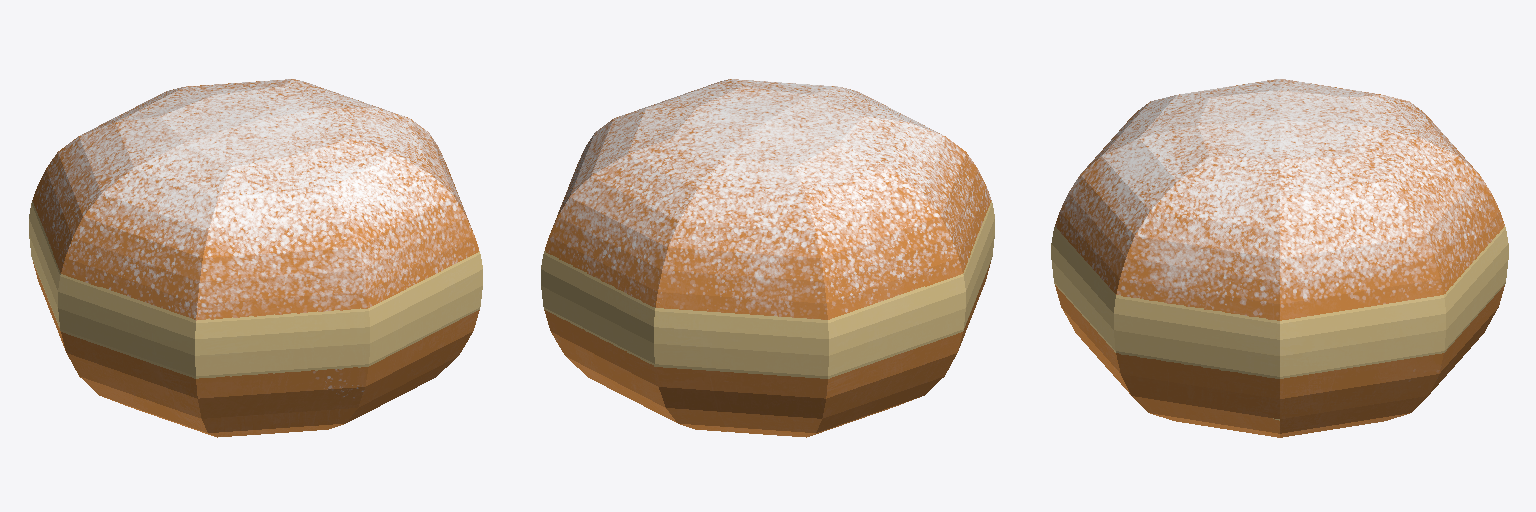
The picture shows the model from 3 angles: view 1: azimuth 30°, elevation 25°; view 2: azimuth 150°, elevation 25°; view 3: azimuth 270°, elevation 25°; orthographic projection.
Parts seen in each view (by area): view 1: krapfen_Cube.001; view 2: krapfen_Cube.001; view 3: krapfen_Cube.001.
Boxes of the visible parts, box(x1,y1,x2,y2) form: krapfen_Cube.001: box(29, 79, 482, 437); krapfen_Cube.001: box(541, 79, 994, 437); krapfen_Cube.001: box(1051, 79, 1508, 437).
Bounding box in the file's own units: 0.6192 × 0.405 × 0.6192.
1 materials, 1 textured.